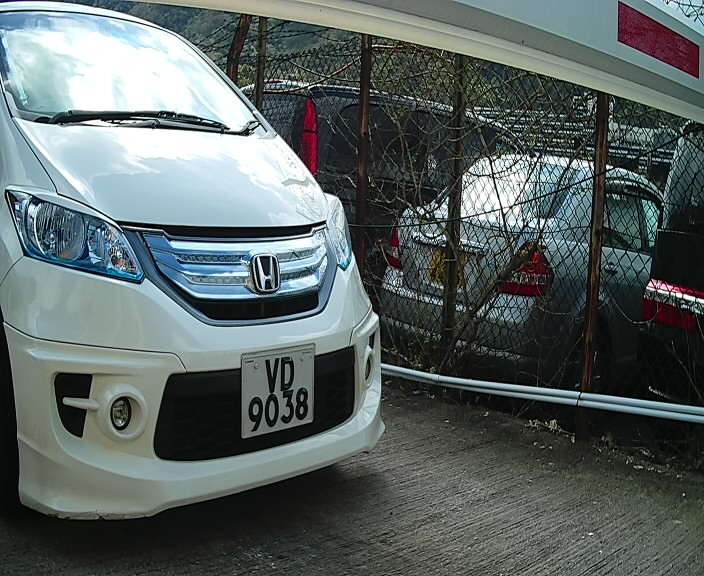License Plate: (232, 341, 321, 440)
